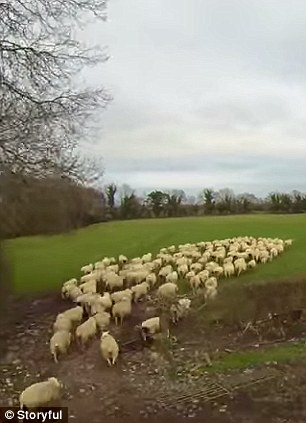sheep: (4, 374, 73, 416), (139, 316, 167, 346), (46, 321, 70, 356), (60, 302, 87, 332), (101, 330, 120, 371), (154, 250, 180, 277), (75, 313, 95, 347), (78, 277, 103, 303), (110, 295, 134, 319), (60, 276, 82, 301), (122, 266, 144, 291), (102, 268, 123, 293), (157, 282, 178, 306), (179, 247, 203, 268), (204, 274, 219, 299), (192, 272, 207, 295), (141, 254, 159, 273), (222, 259, 234, 277), (233, 254, 244, 273), (212, 242, 224, 258), (264, 239, 280, 251), (249, 254, 258, 273), (103, 255, 117, 267), (253, 246, 264, 259), (207, 249, 217, 263), (233, 238, 242, 247)
